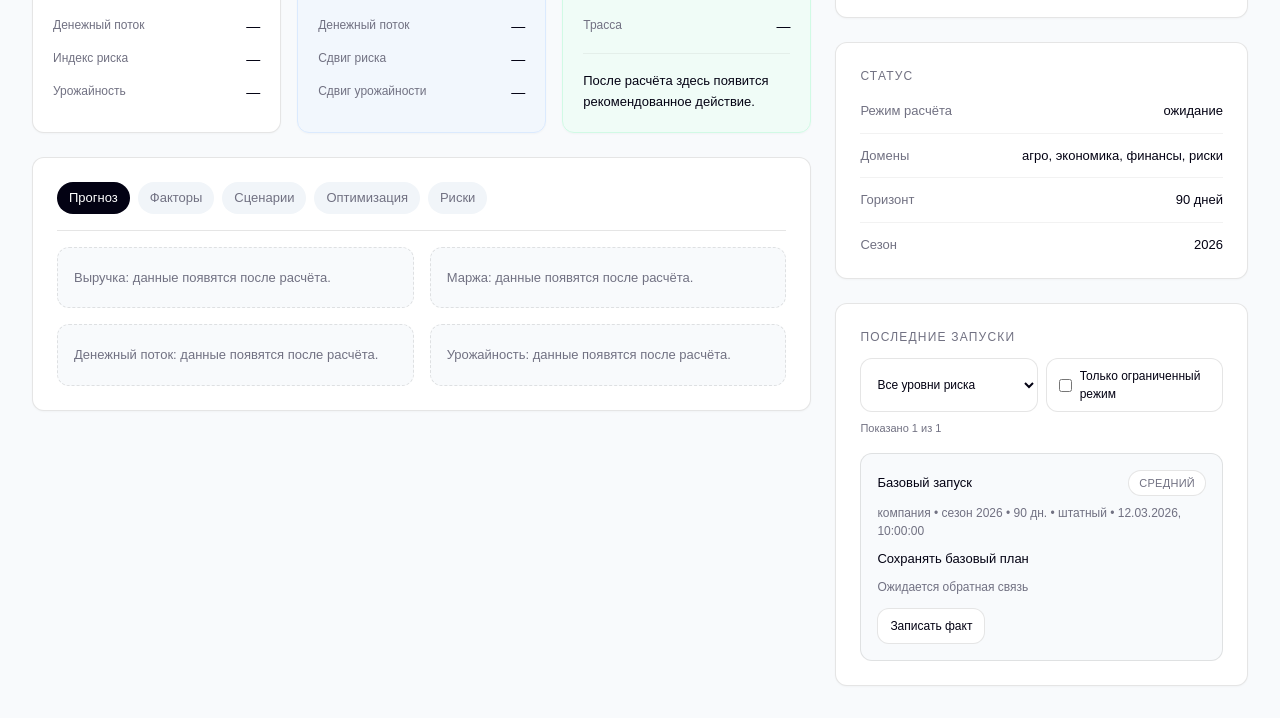
Test: StrategyForecastsPage › submits realized feedback from recent runs panel
(page scrolled)
Click the button "Записать факт" at (931, 626), box [877,608,985,644]
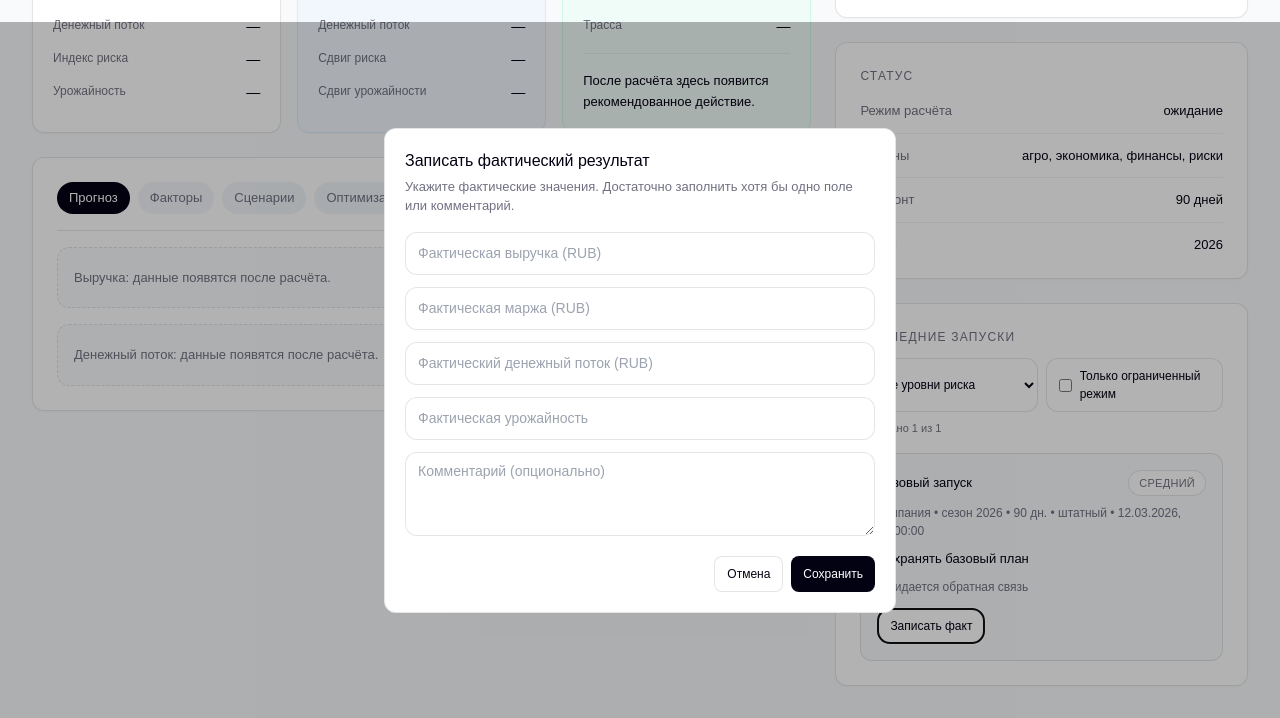
Type "1000000" into the number field with placeholder "Фактическая выручка (RUB)" at (640, 253), box [405,232,875,274]
Type "280000" into the number field with placeholder "Фактическая маржа (RUB)" at (640, 308), box [405,286,875,330]
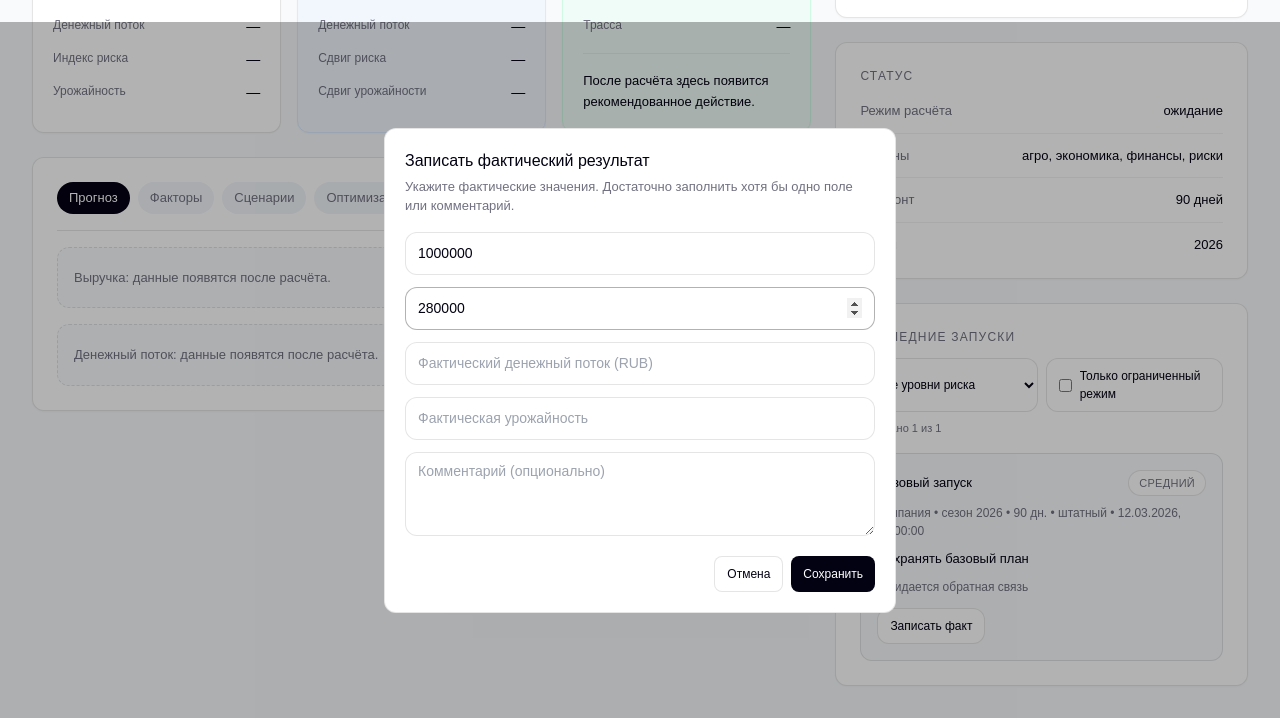
Type "190000" into the number field with placeholder "Фактический денежный поток (RUB)" at (640, 363), box [405,342,875,384]
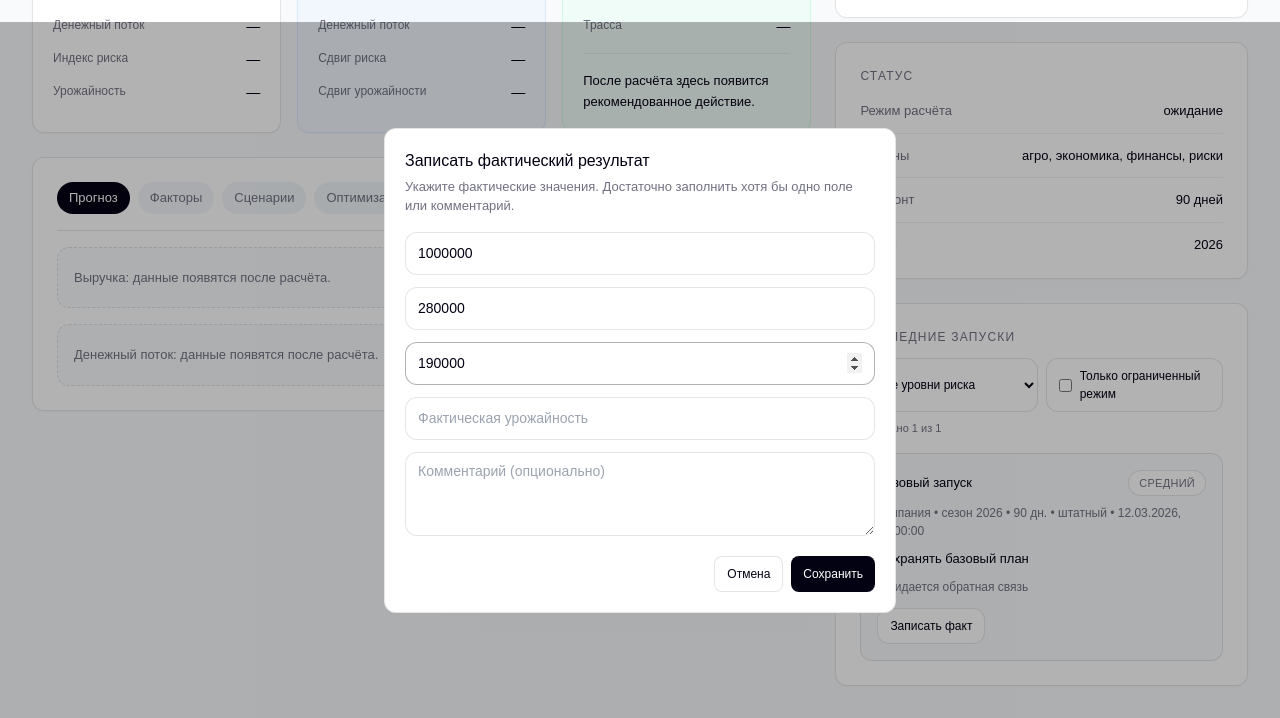
Type "4.3" into the number field with placeholder "Фактическая урожайность" at (640, 418), box [405,396,875,440]
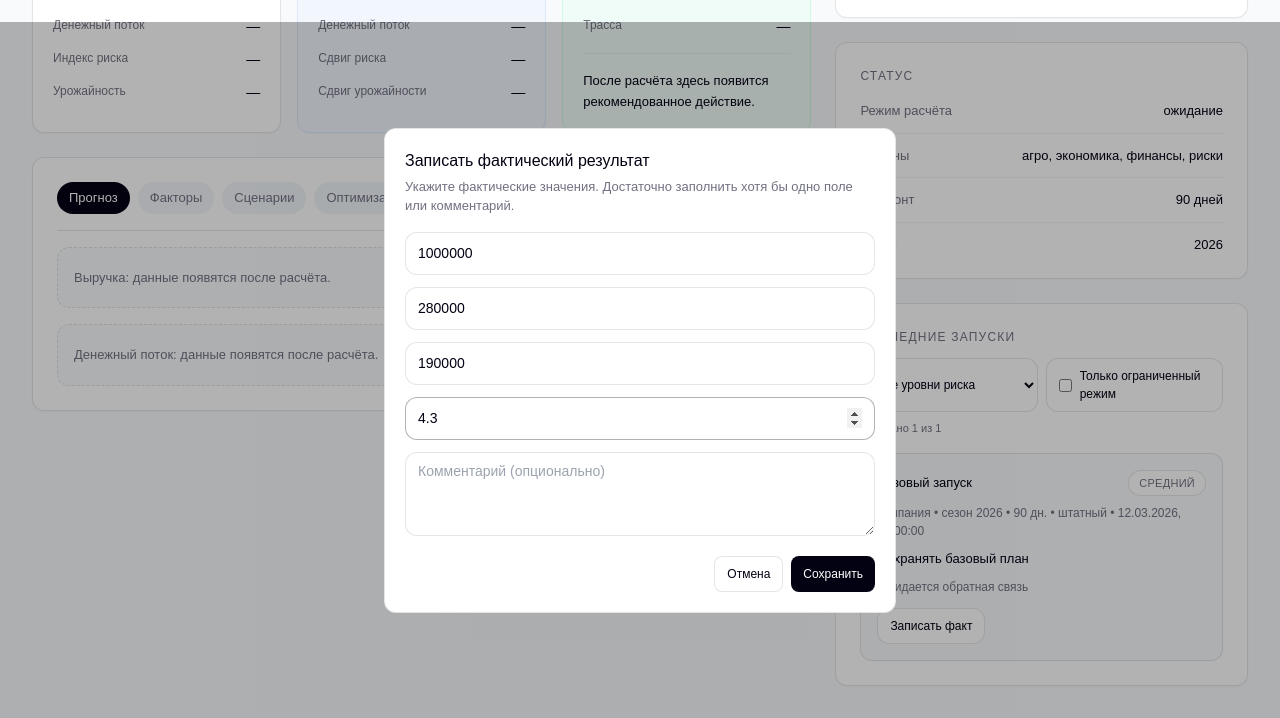
Type "Факт по закрытию периода" into the text box with placeholder "Комментарий (опционально)" at (640, 494), box [405,452,875,536]
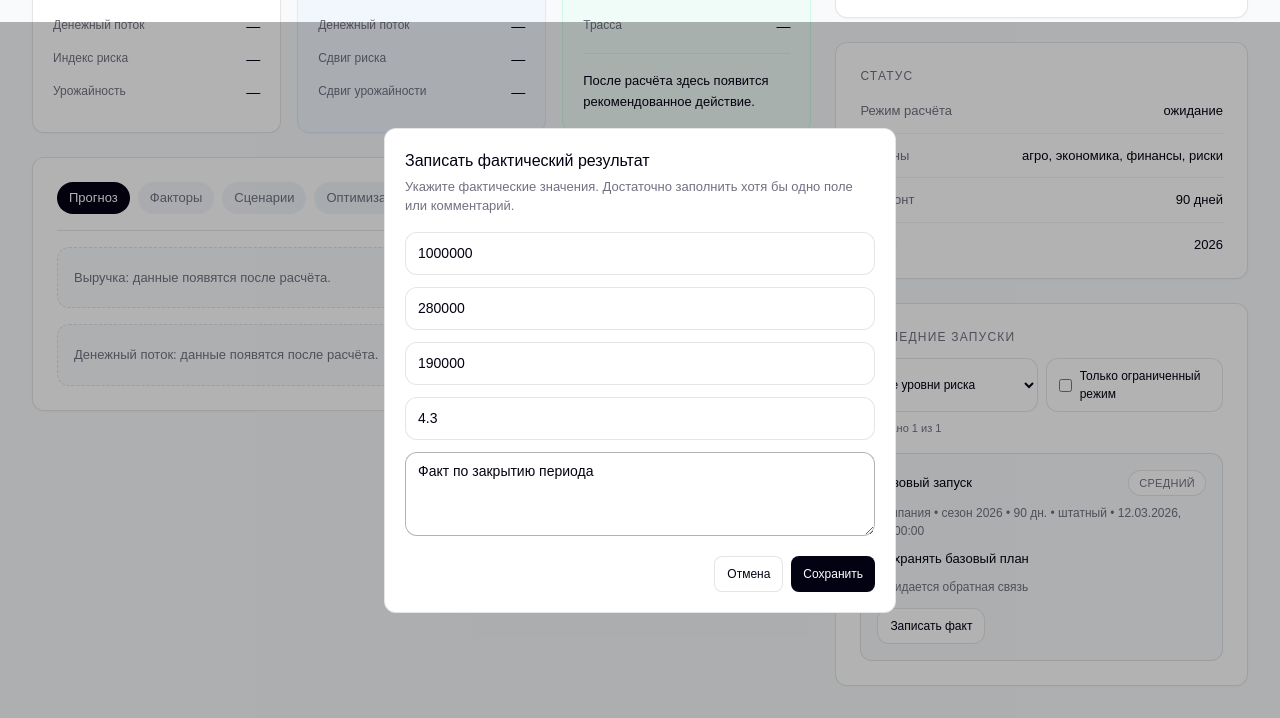
Click the button "Сохранить" at (833, 574), box [791,556,875,592]
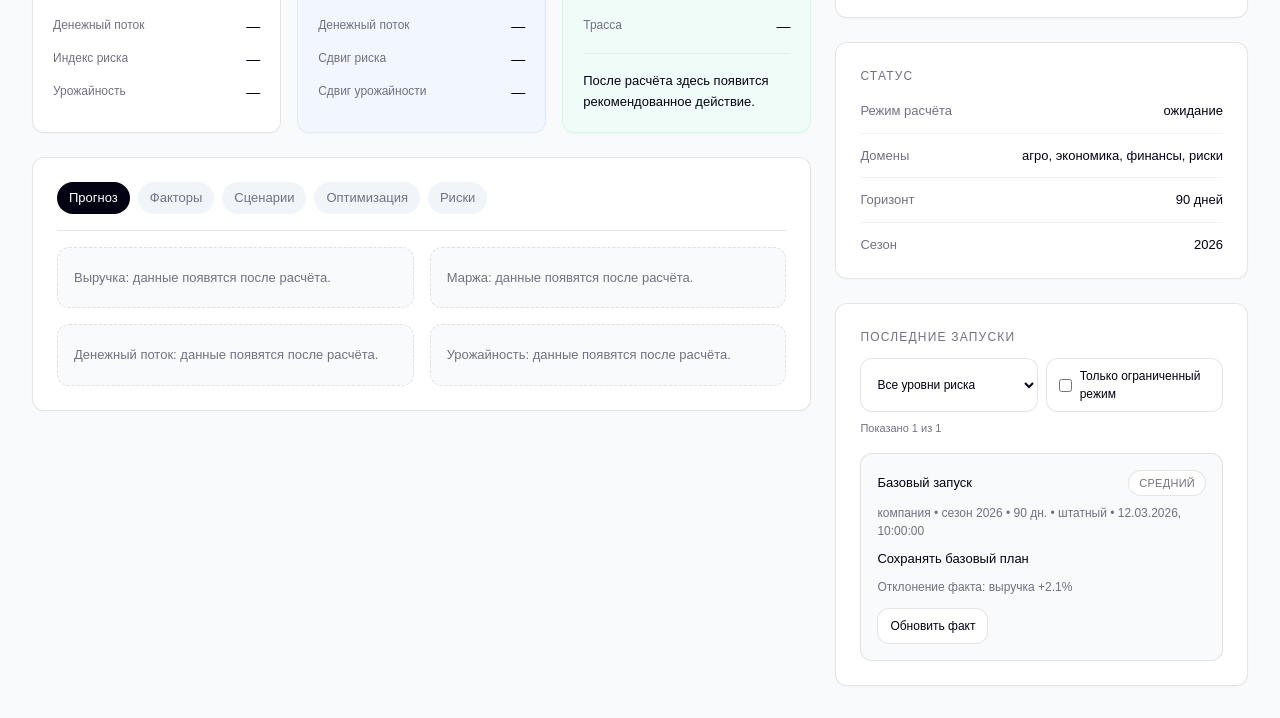
Expected: the text "Отклонение факта: выручка +2.1%" is shown, [877,580,1072,594]
